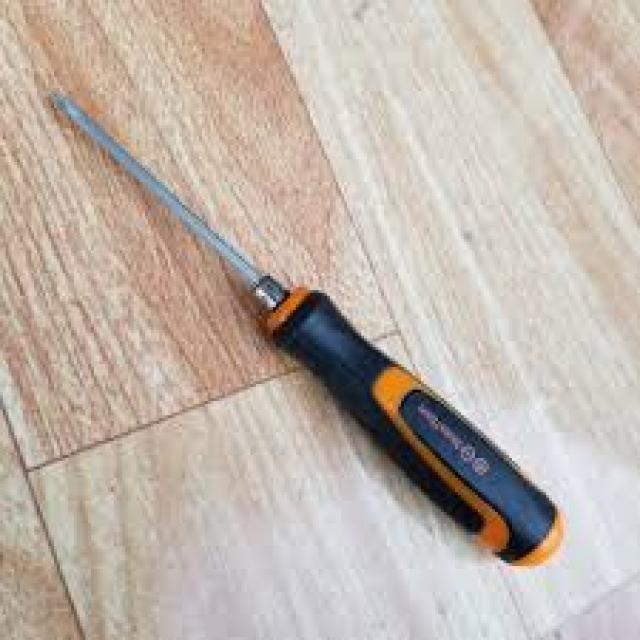screwdriver: (50, 88, 568, 578)
